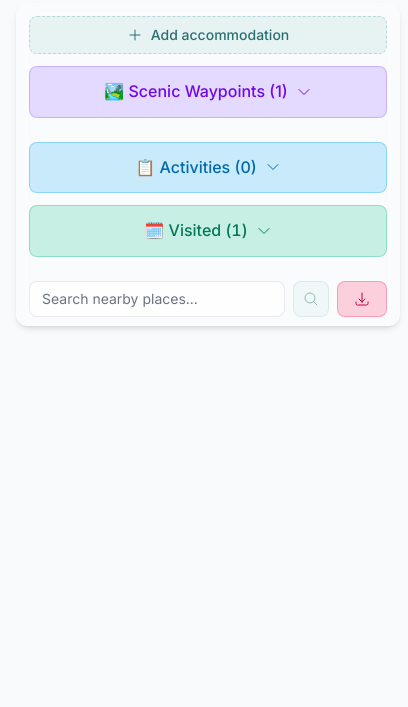
ActivitiesPanel planned/visited split › counts and lists only planned waypoints in the scenic group
This screenshot has width=408, height=707.
Click the button "🏞️ Scenic Waypoints (1)" at (208, 92), box [29,66,387,118]
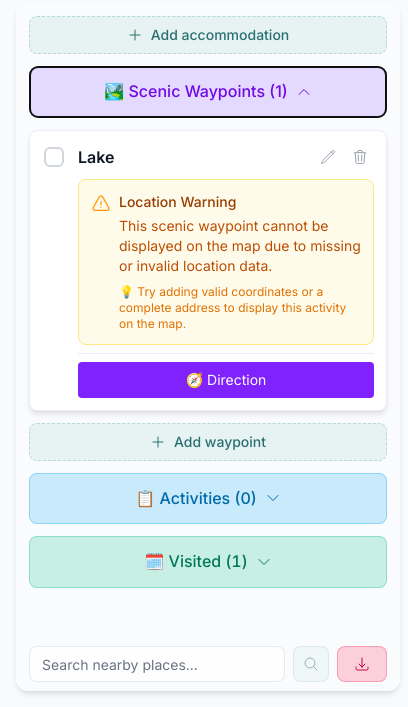
Expected: the element named "Lake, scenic waypoint" is shown, [29,130,387,411]
